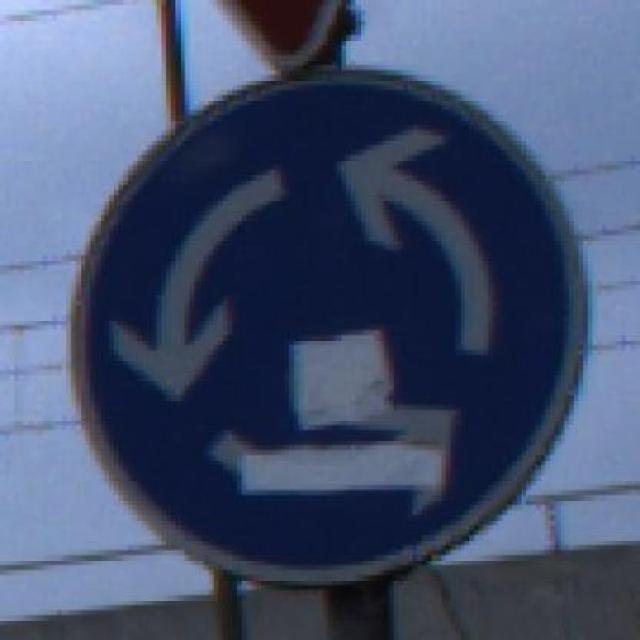Round-About: (29, 55, 616, 594)
